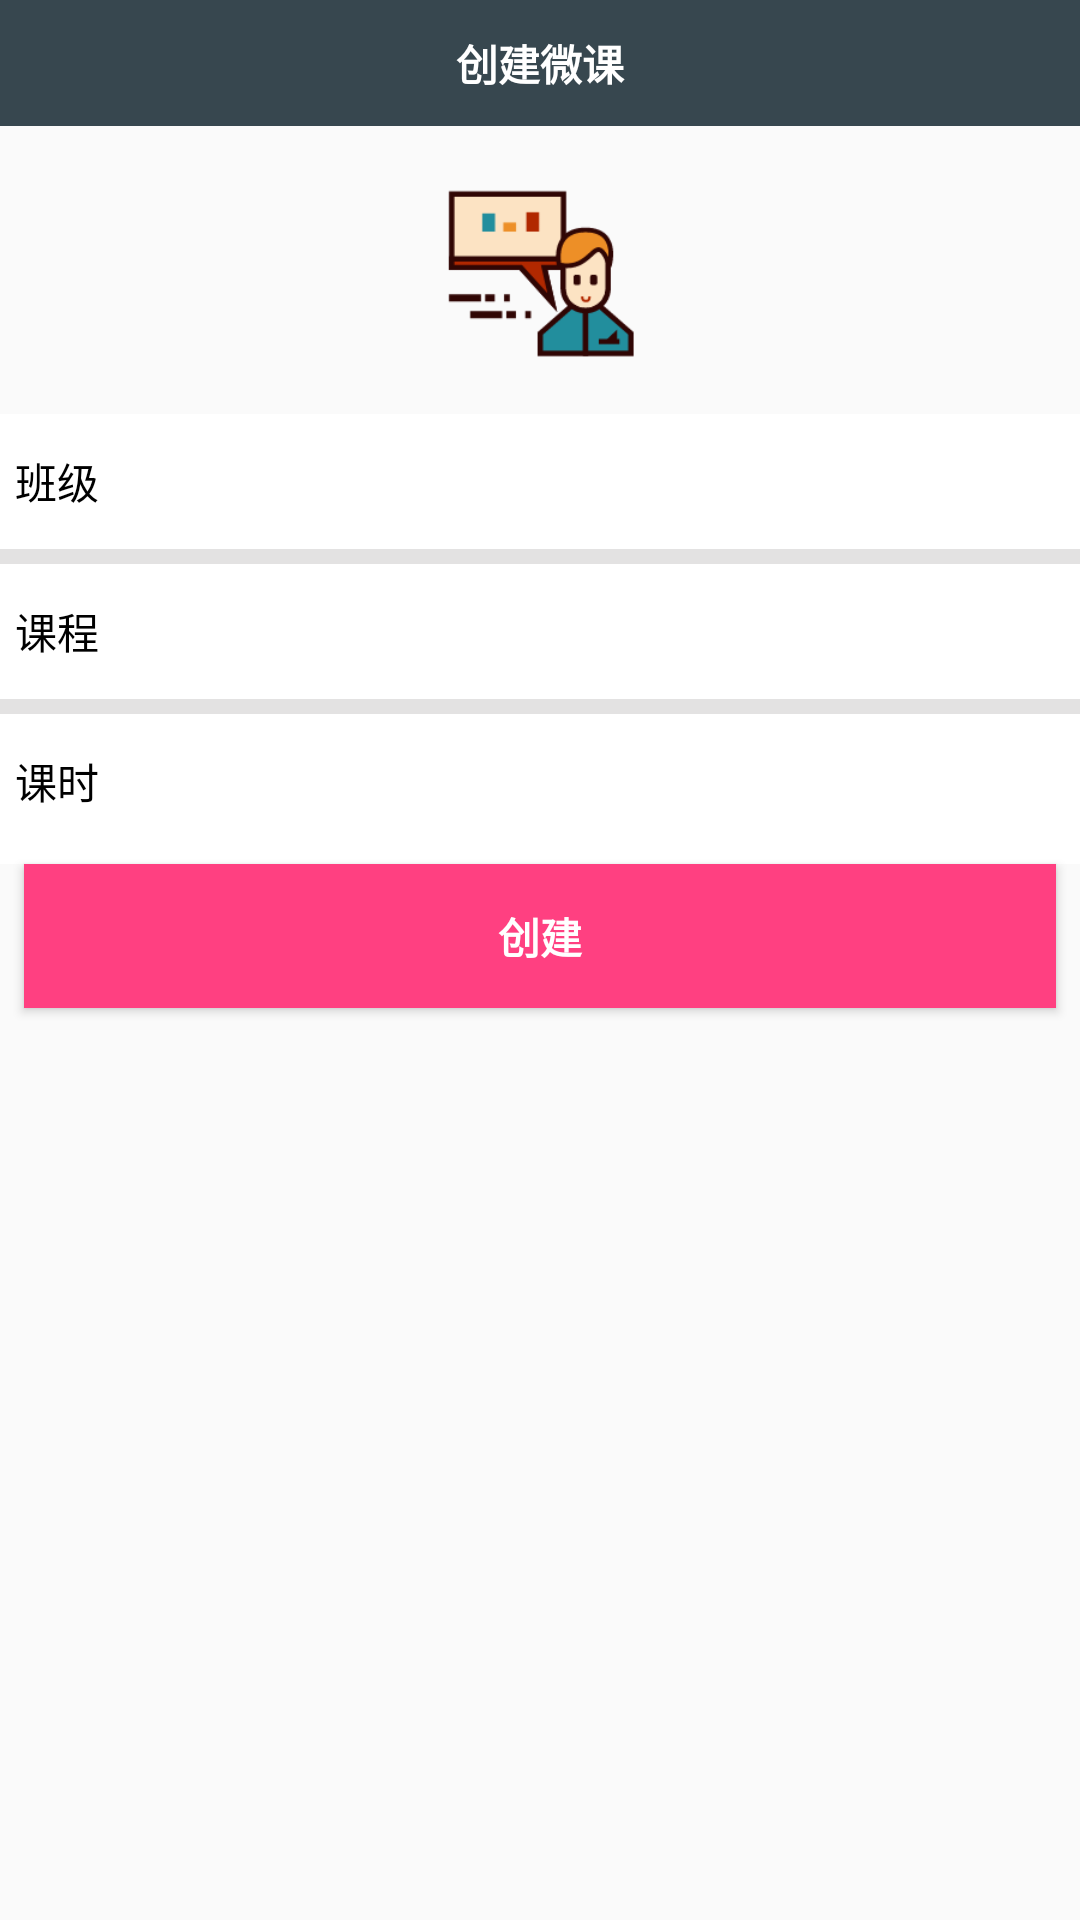

Icon bounding boxes for this 1080 × 1920 phone screenshot, format (x1, y1, x2, y2):
classroom base: (448, 190, 634, 357)
